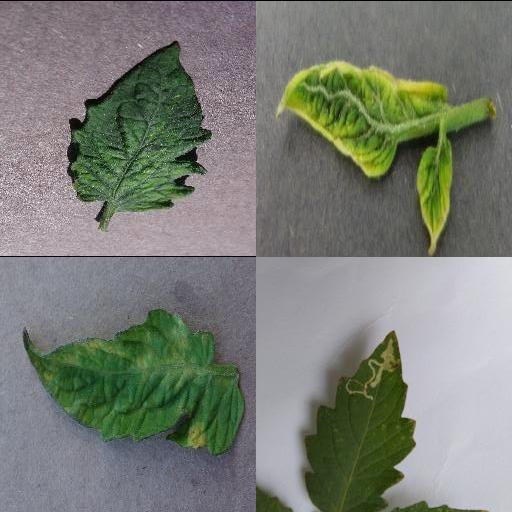Leaf Miner: (304, 327, 418, 511)
Leaf Mold: (22, 306, 242, 453)
Mosaic Virus: (66, 38, 212, 212)
Yellow Leaf Curl Virus: (273, 60, 449, 174), (412, 138, 456, 253)
